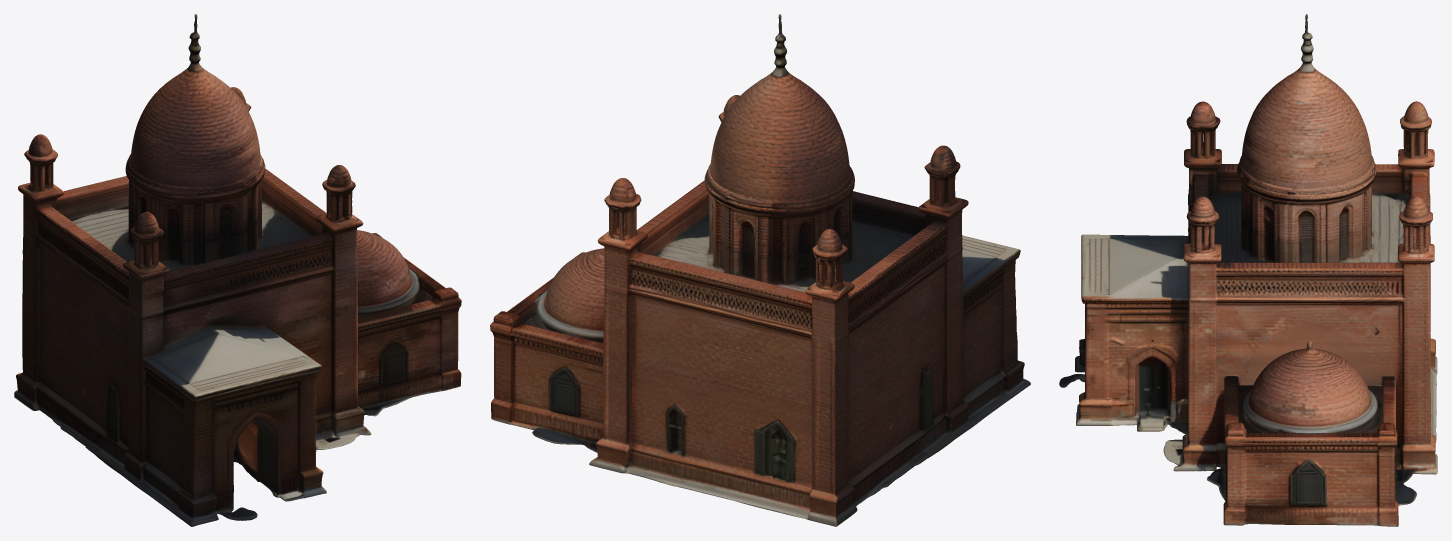
The model's file is yrgyzbai_3d model.glb.
The picture shows the model from 3 angles, left to right: view 1: azimuth 30°, elevation 25°; view 2: azimuth 150°, elevation 25°; view 3: azimuth 270°, elevation 25°; orthographic projection. The views are drawn at different scales.
Parts seen in each view (by area): view 1: tripo_node_c36161b8-84f8-43b1-9374-f53c9bd98004; view 2: tripo_node_c36161b8-84f8-43b1-9374-f53c9bd98004; view 3: tripo_node_c36161b8-84f8-43b1-9374-f53c9bd98004.
Part boxes in pixels (x1,y1,x2,y2): tripo_node_c36161b8-84f8-43b1-9374-f53c9bd98004: (14,14,461,526); tripo_node_c36161b8-84f8-43b1-9374-f53c9bd98004: (490,14,1030,526); tripo_node_c36161b8-84f8-43b1-9374-f53c9bd98004: (1059,14,1437,526).
Size of the model in its own units: 0.9001 by 1 by 0.8445.
1 material, 1 textured.
